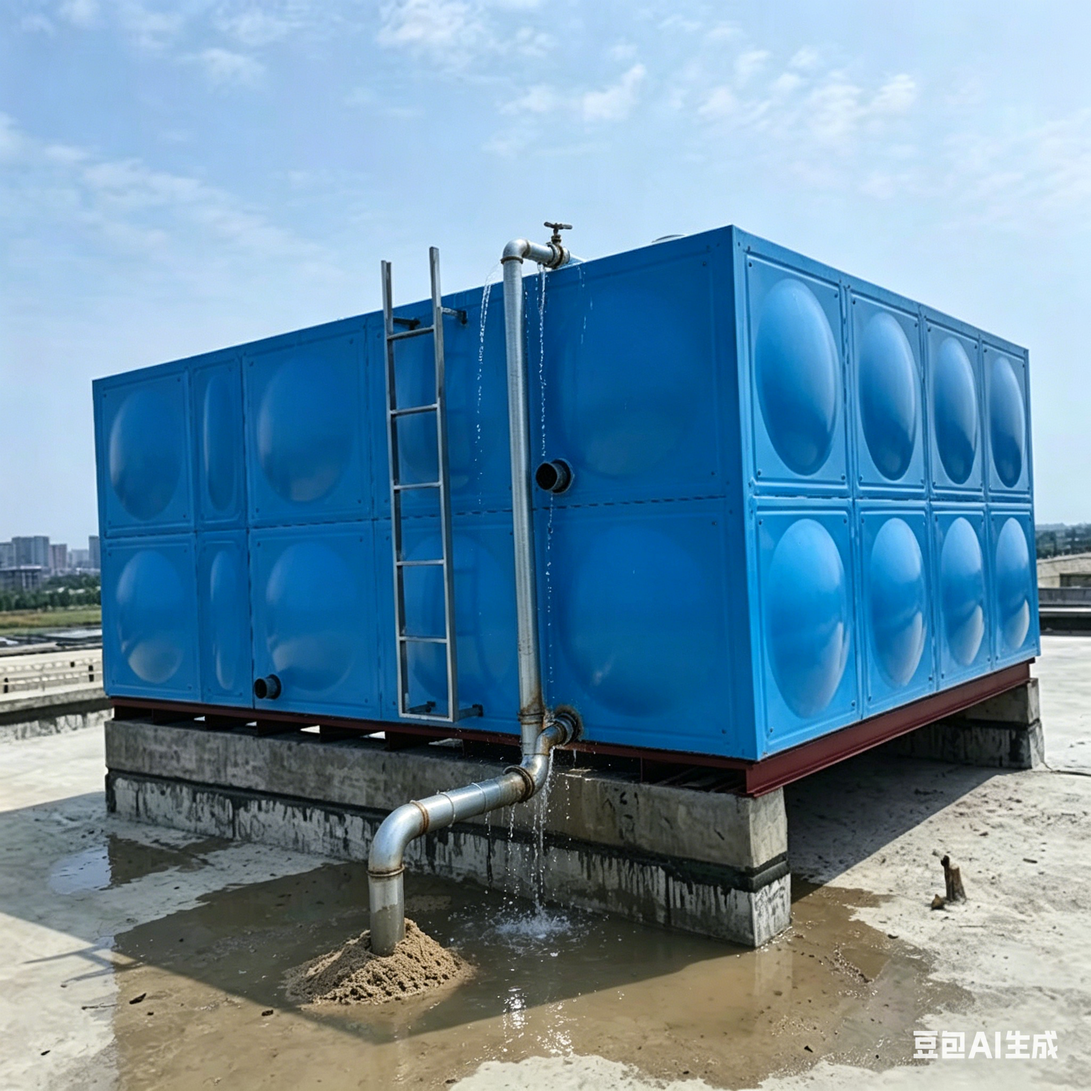Leakage: (136, 917, 507, 1091), (600, 909, 959, 1083), (517, 241, 594, 1047), (259, 860, 503, 913), (459, 231, 501, 465), (24, 840, 156, 892)
